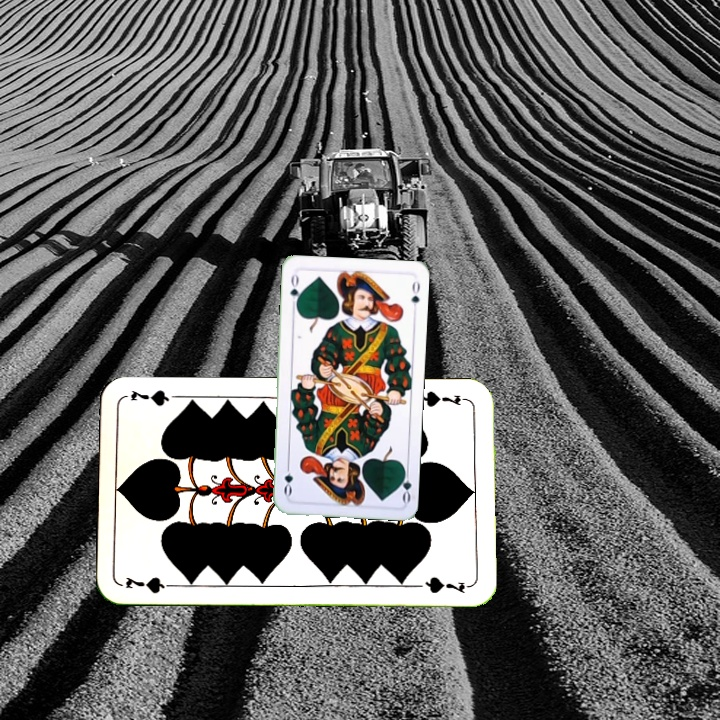G7: (121, 573, 180, 596), (412, 387, 471, 409)
GO: (395, 464, 414, 505), (286, 270, 303, 310)
